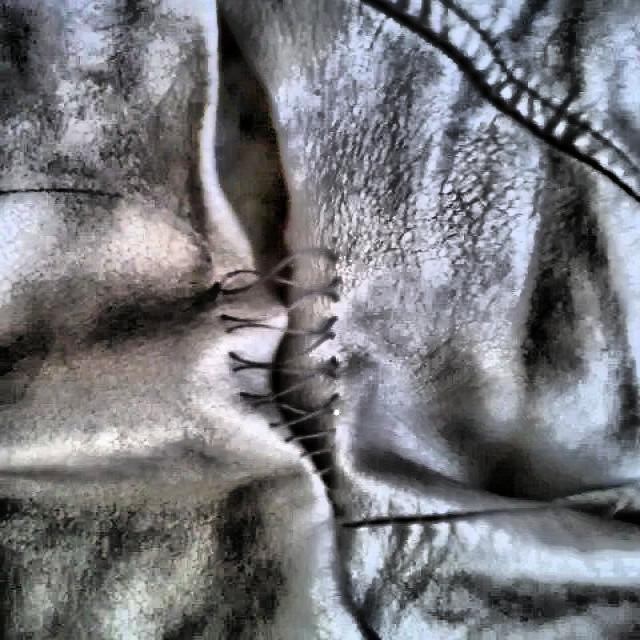Stitch: (168, 235, 418, 507)
